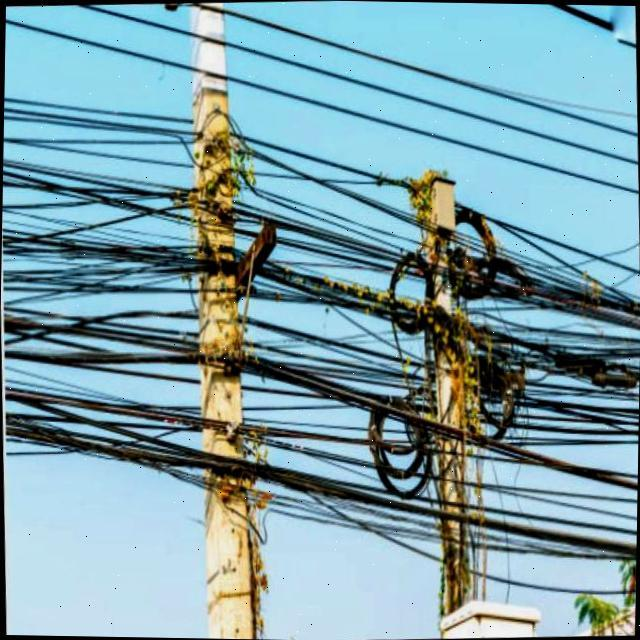critical vegetation: (171, 100, 264, 375), (399, 166, 464, 364)
